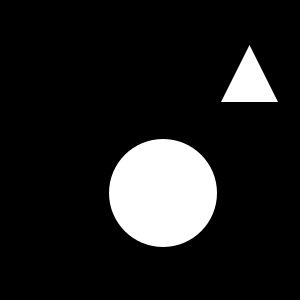rectangle: (109, 139, 217, 247)
triangle: (221, 45, 278, 102)
